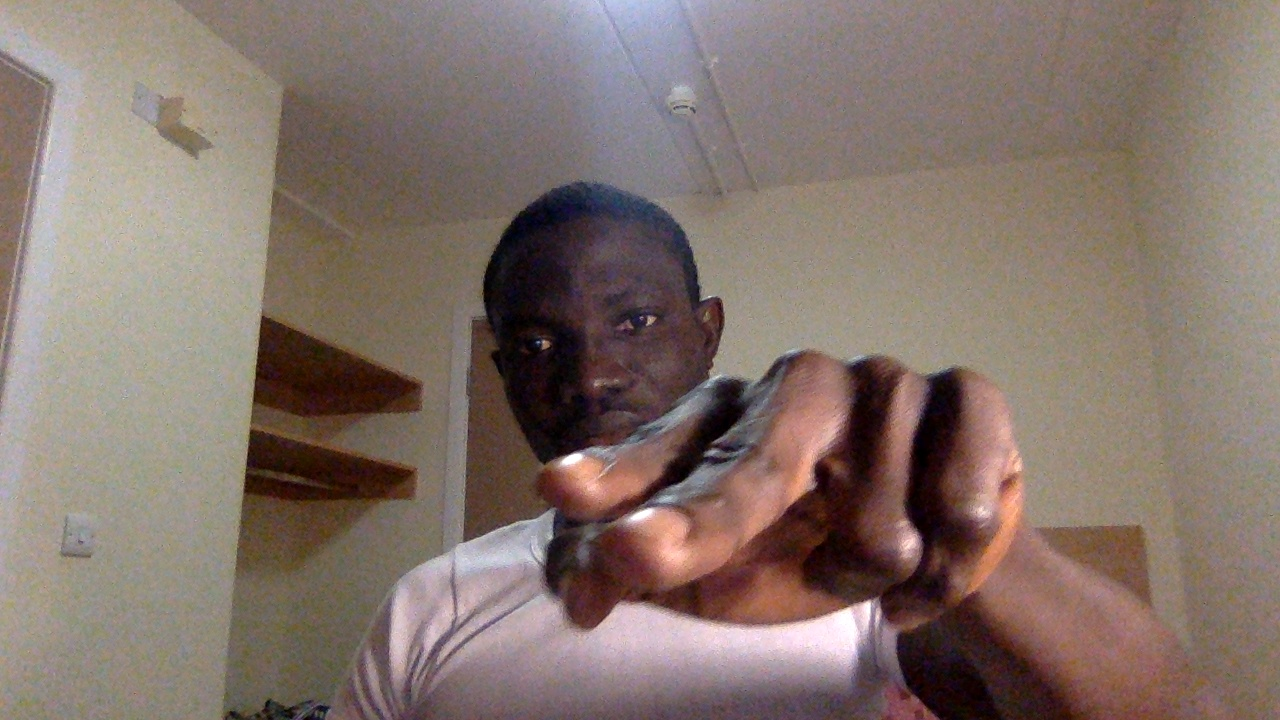No: (529, 342, 1048, 656)
